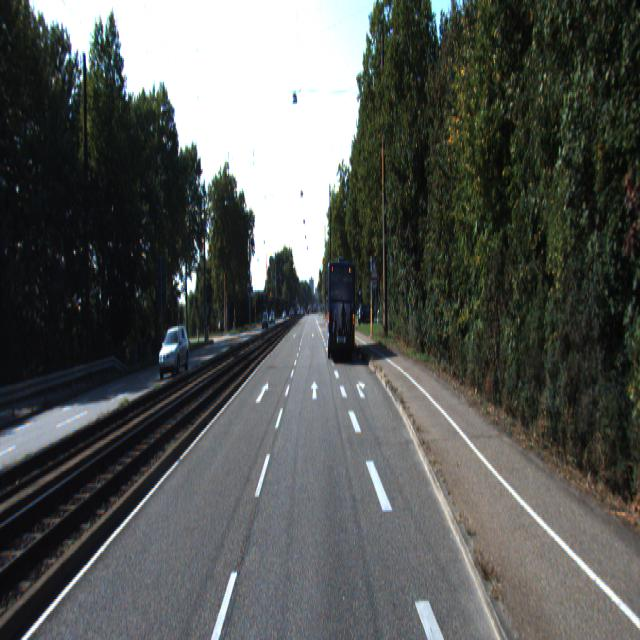Car: (328, 259, 357, 361), (156, 322, 190, 379), (0, 345, 16, 464)
